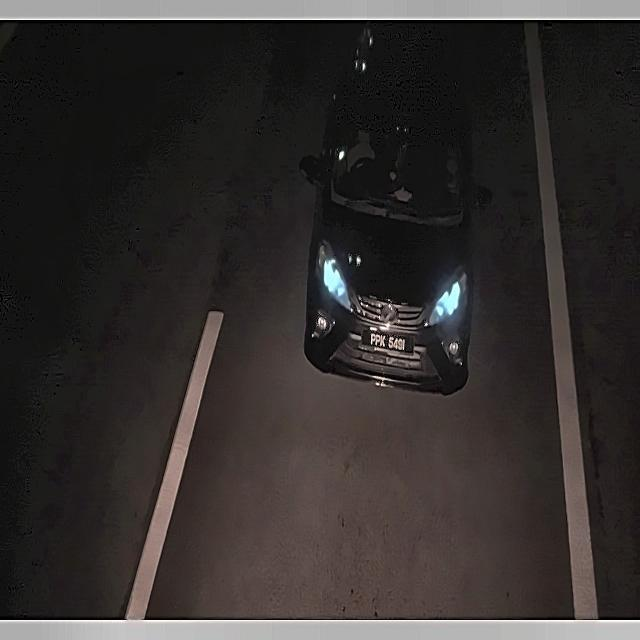car: (366, 325, 411, 359)
